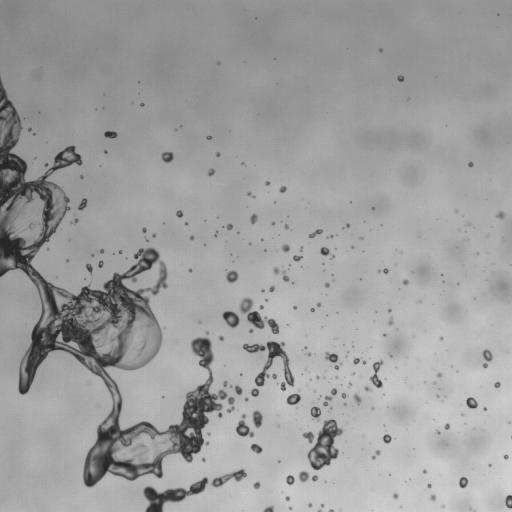droplet: (242, 341, 294, 397), (302, 419, 344, 470), (235, 414, 254, 437), (222, 310, 240, 327), (298, 470, 317, 482), (286, 392, 300, 406), (252, 410, 262, 427), (226, 270, 238, 283), (310, 406, 320, 421), (466, 397, 478, 409), (161, 152, 173, 163), (250, 443, 262, 453), (78, 198, 87, 210), (104, 131, 117, 138), (382, 434, 392, 443), (459, 477, 468, 487), (233, 385, 242, 394), (353, 394, 361, 404), (496, 211, 505, 219), (281, 244, 290, 252), (286, 475, 294, 484), (250, 214, 257, 223), (263, 505, 273, 511), (253, 481, 260, 489), (293, 255, 302, 261), (208, 168, 215, 175), (279, 186, 286, 193), (176, 210, 183, 217), (225, 223, 232, 230), (86, 264, 92, 272), (494, 382, 500, 389), (364, 385, 371, 391), (430, 494, 436, 501), (388, 317, 393, 325), (397, 75, 403, 81), (402, 279, 408, 285), (98, 260, 103, 267), (269, 285, 274, 292), (72, 218, 78, 223), (271, 373, 276, 379), (436, 372, 442, 377), (341, 393, 347, 398), (444, 423, 449, 429), (393, 493, 398, 499), (189, 235, 194, 240), (223, 381, 228, 386), (375, 450, 380, 455), (142, 227, 146, 233), (468, 162, 473, 166), (265, 181, 270, 185), (325, 282, 329, 287), (249, 328, 253, 333), (306, 352, 311, 356), (422, 469, 427, 473), (216, 152, 220, 156), (284, 225, 288, 229), (99, 249, 103, 253), (118, 250, 122, 254), (317, 302, 321, 306), (259, 305, 263, 309), (219, 336, 223, 340), (244, 397, 248, 401), (436, 430, 440, 434), (504, 455, 508, 459), (427, 483, 431, 487), (285, 496, 289, 500), (308, 503, 312, 507), (344, 224, 349, 227), (328, 235, 333, 238), (207, 136, 211, 139), (300, 247, 303, 251), (310, 307, 313, 311), (348, 383, 351, 387), (207, 432, 210, 436), (317, 509, 322, 511), (140, 103, 143, 106), (28, 128, 31, 131), (44, 163, 47, 166), (185, 222, 188, 225), (188, 269, 191, 272), (293, 306, 296, 309), (388, 309, 391, 312), (383, 333, 386, 336), (440, 336, 443, 339), (346, 351, 349, 354), (343, 402, 346, 405), (483, 407, 486, 410), (202, 458, 205, 461), (441, 504, 444, 507), (215, 232, 217, 236), (379, 49, 382, 51), (217, 62, 220, 64), (242, 163, 245, 165), (80, 176, 83, 178), (152, 234, 155, 236), (262, 289, 264, 292), (351, 372, 354, 374), (373, 456, 375, 459), (289, 506, 291, 509), (104, 151, 106, 153), (272, 223, 274, 225), (467, 223, 469, 225), (146, 239, 148, 241), (351, 246, 353, 248), (92, 254, 94, 256), (418, 301, 420, 303), (303, 347, 305, 349), (389, 354, 391, 356), (317, 377, 319, 379), (461, 414, 463, 416), (321, 505, 323, 507)
ligament: (0, 77, 234, 484), (143, 469, 246, 511), (239, 297, 278, 334), (369, 360, 383, 388), (324, 352, 342, 369), (323, 388, 337, 406), (273, 267, 289, 281), (320, 247, 335, 259), (482, 349, 492, 367), (309, 229, 322, 238), (353, 357, 366, 364), (505, 494, 511, 508), (377, 268, 388, 274), (247, 192, 254, 198), (469, 507, 476, 511), (328, 509, 334, 511), (338, 510, 341, 511)
